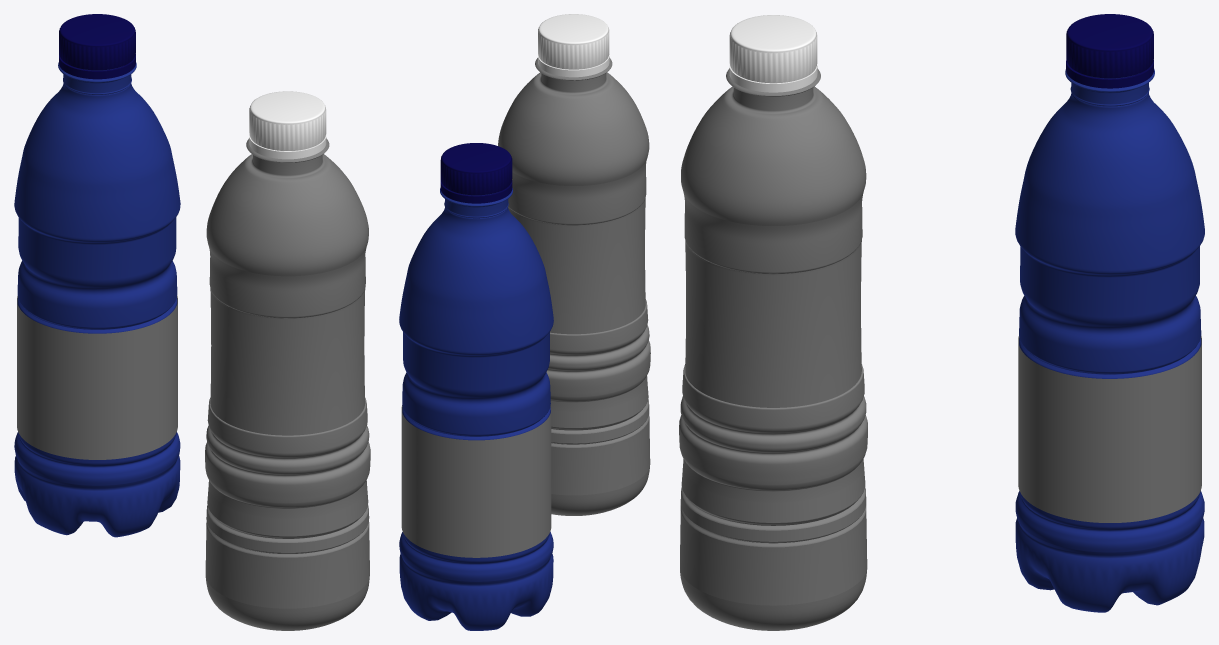
Rendered from Bottle.FBX.
The picture shows the model from 3 angles, left to right: view 1: azimuth 30°, elevation 25°; view 2: azimuth 150°, elevation 25°; view 3: azimuth 270°, elevation 25°; orthographic projection. The views are drawn at different scales.
Parts seen in each view (by area): view 1: Line002, Line005, Tube005, Tube001, Cylinder001, Cylinder002, Tube004, Tube006; view 2: Line005, Line002, Tube005, Tube001, Cylinder001, Cylinder002, Tube004, Tube006; view 3: Line002, Line005, Tube005, Tube001, Cylinder001, Cylinder002, Tube004, Tube006.
Boxes of the visible parts, box(x1,y1,x2,y2) form: Line002: box(205, 138, 370, 630); Line005: box(14, 62, 180, 537); Tube005: box(17, 295, 177, 459); Tube001: box(210, 288, 365, 435); Cylinder001: box(249, 91, 326, 150); Cylinder002: box(59, 14, 135, 70); Tube004: box(59, 54, 135, 79); Tube006: box(249, 134, 326, 159); Line005: box(399, 188, 553, 630); Line002: box(498, 58, 650, 515); Tube005: box(401, 405, 551, 557); Tube001: box(509, 198, 645, 334); Cylinder001: box(538, 14, 609, 69); Cylinder002: box(440, 143, 512, 195); Tube004: box(440, 180, 512, 203); Tube006: box(538, 54, 609, 77); Line002: box(679, 68, 867, 630); Line005: box(1015, 69, 1204, 612); Tube005: box(1018, 336, 1201, 522); Tube001: box(685, 240, 861, 407); Cylinder001: box(729, 15, 817, 83); Cylinder002: box(1066, 14, 1153, 78); Tube004: box(1066, 59, 1153, 88); Tube006: box(729, 64, 817, 92).
Bounding box in the file's own units: 11.57 × 29.91 × 24.71.
